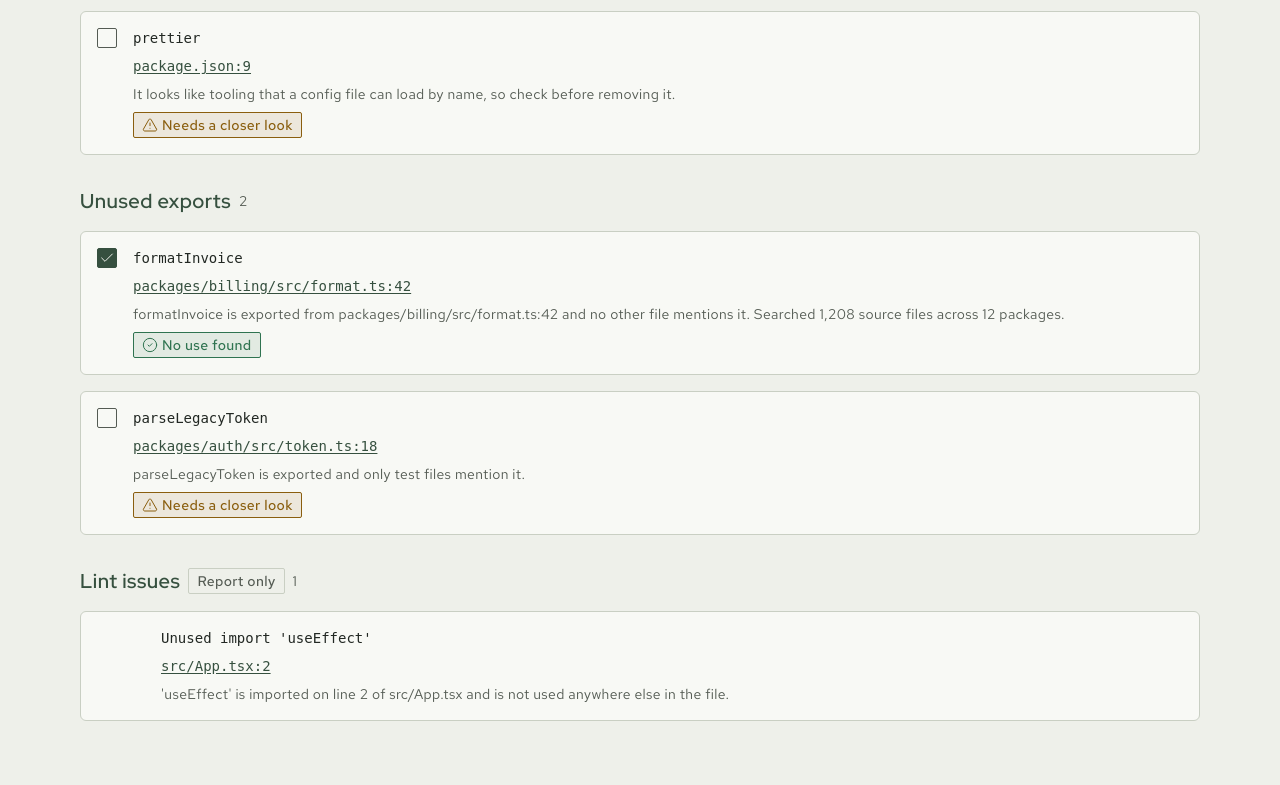
results › saves a tick and updates the count straight away
The image size is (1280, 785).
(page scrolled)
Click the checkbox named "Tick parseLegacyToken to remove it" at (107, 418), box [97, 408, 117, 428]
(page scrolled)
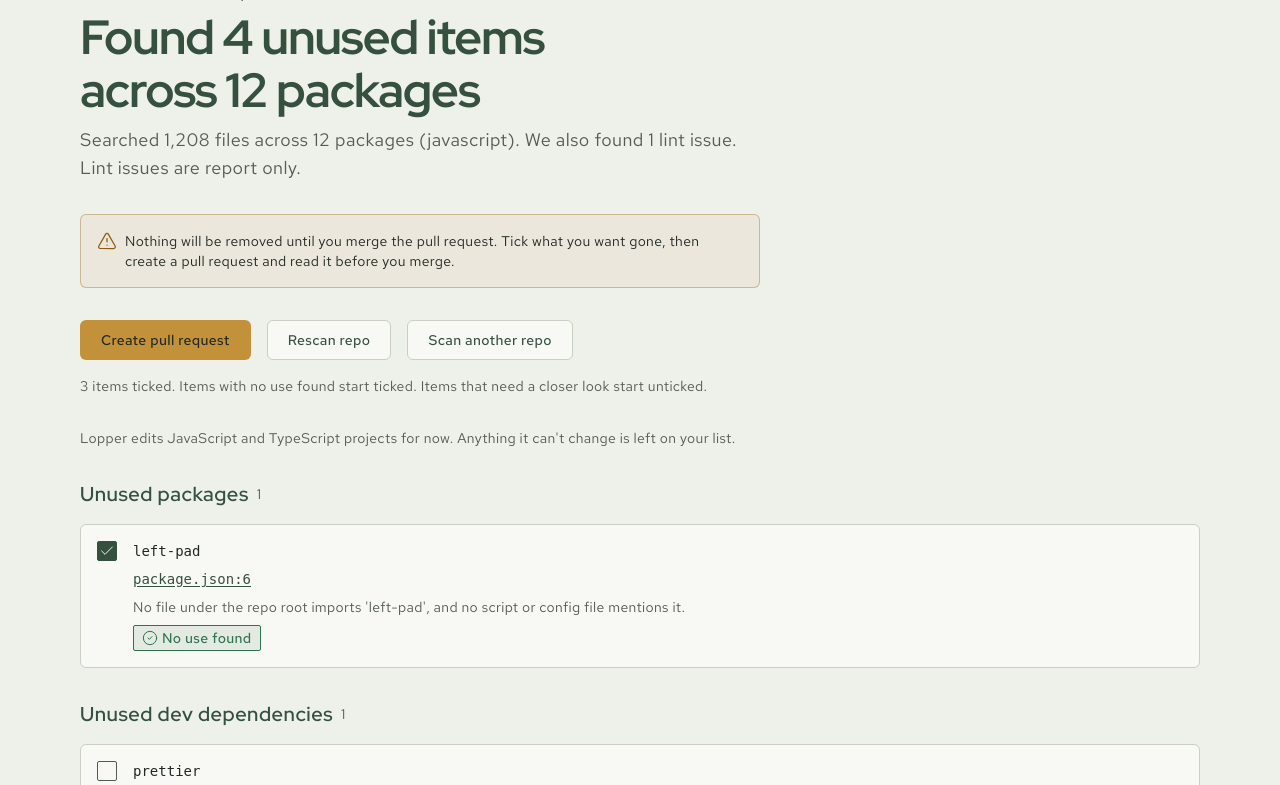
Expected: the text "3 items ticked." is shown, [80, 376, 708, 396]
